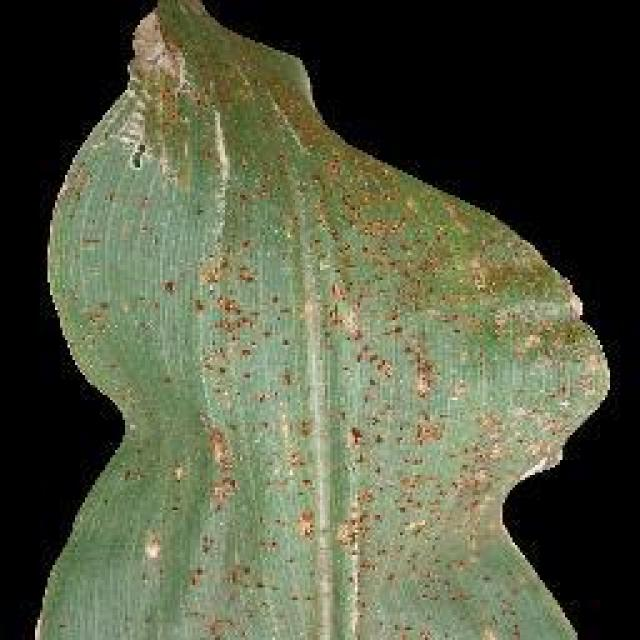Corn Common Rust: (133, 86, 556, 640)
